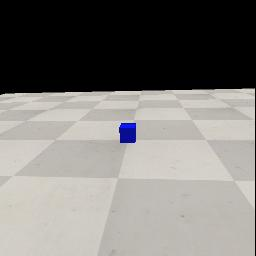box: (119, 123, 136, 143)
